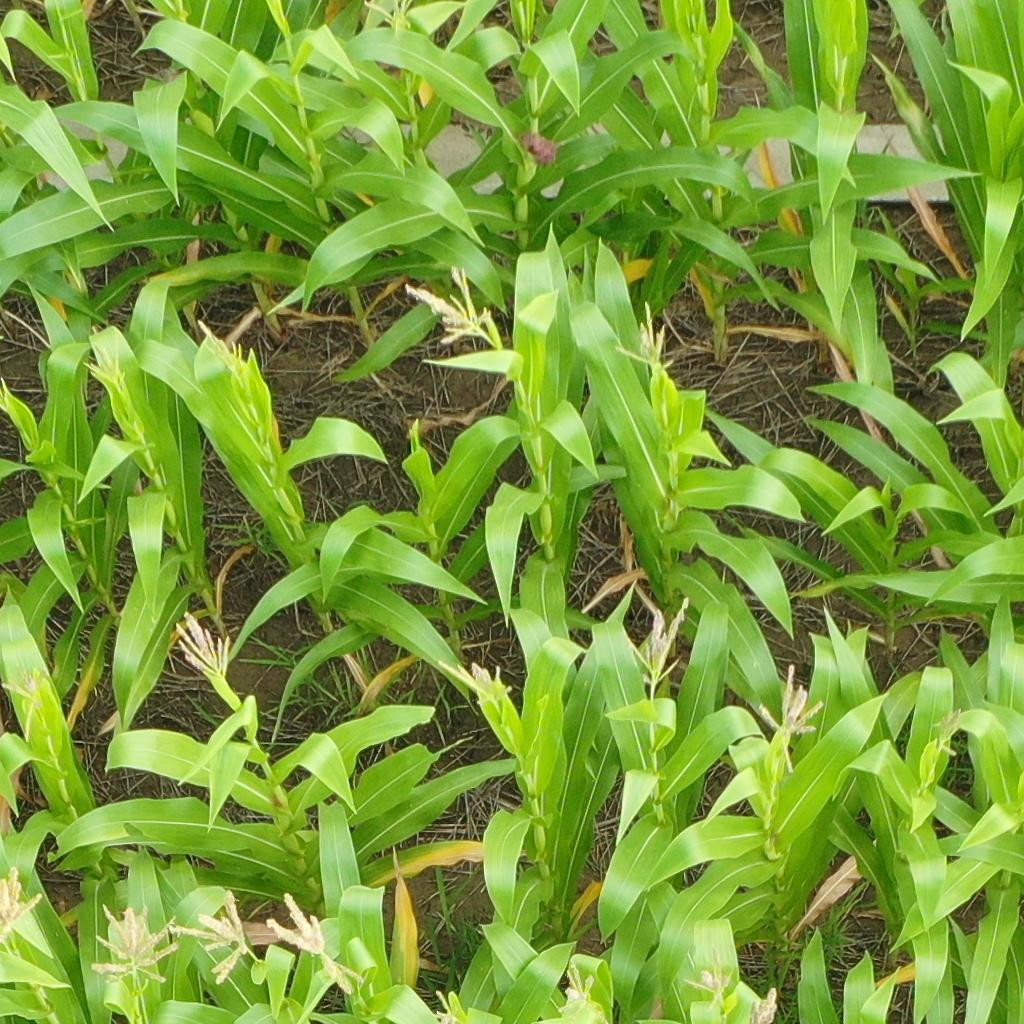Tassel: (266, 889, 363, 996), (168, 890, 254, 985), (88, 902, 177, 988), (400, 267, 495, 347), (758, 664, 825, 775), (621, 595, 690, 687), (613, 302, 676, 383), (1, 864, 45, 946), (1, 669, 50, 742), (682, 951, 737, 1015), (175, 613, 233, 673), (439, 660, 515, 705), (82, 332, 130, 390), (197, 322, 246, 378), (557, 961, 594, 1017), (364, 1, 416, 35), (935, 706, 964, 755), (748, 988, 782, 1024), (432, 989, 460, 1024)
